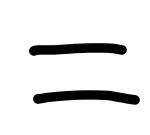eqv: (33, 43, 144, 105)
